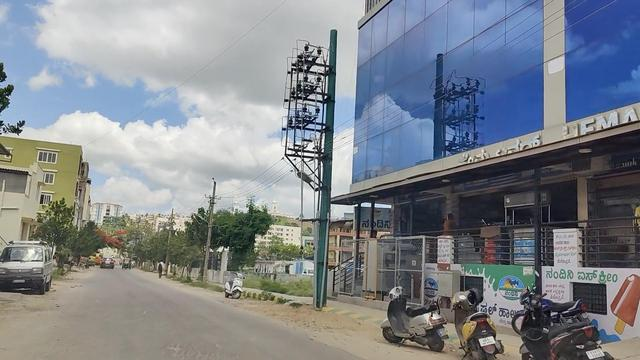RoadDamages: (160, 332, 235, 360)
